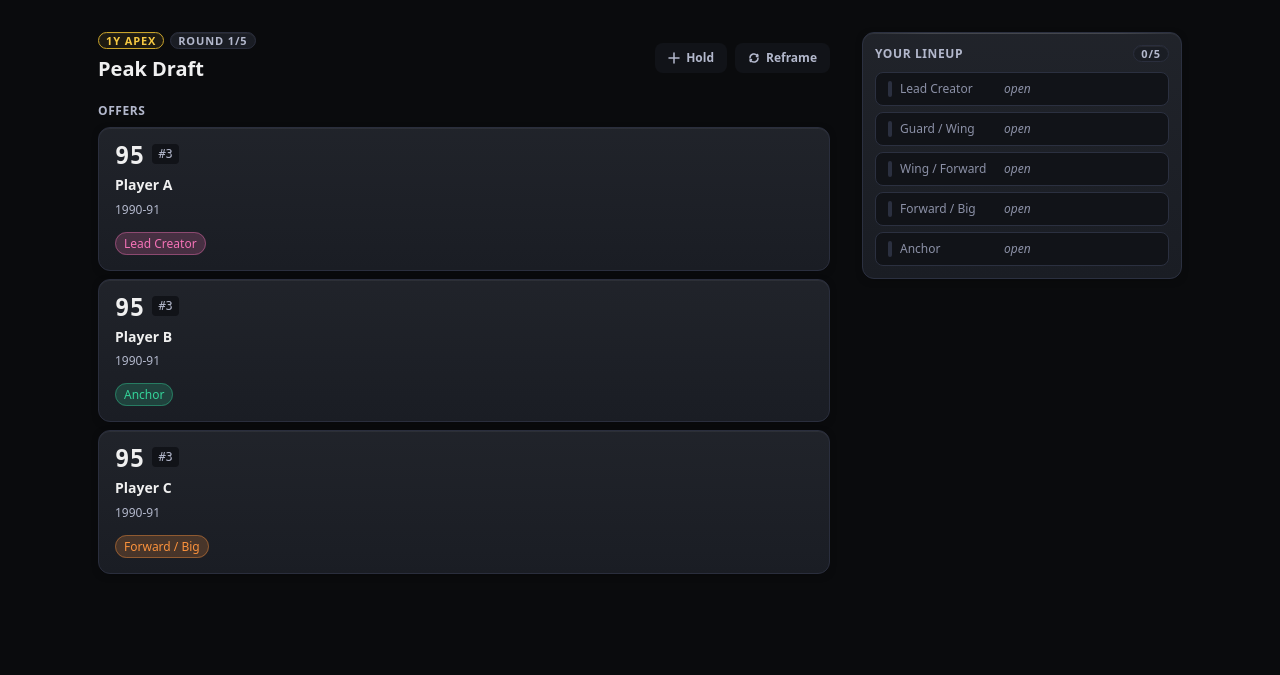
Test case: DraftScreen › a failed submission surfaces the server's message as an alert, not a crash
Click the button with test id "offer-card" at (144, 184), box [98, 127, 830, 270]
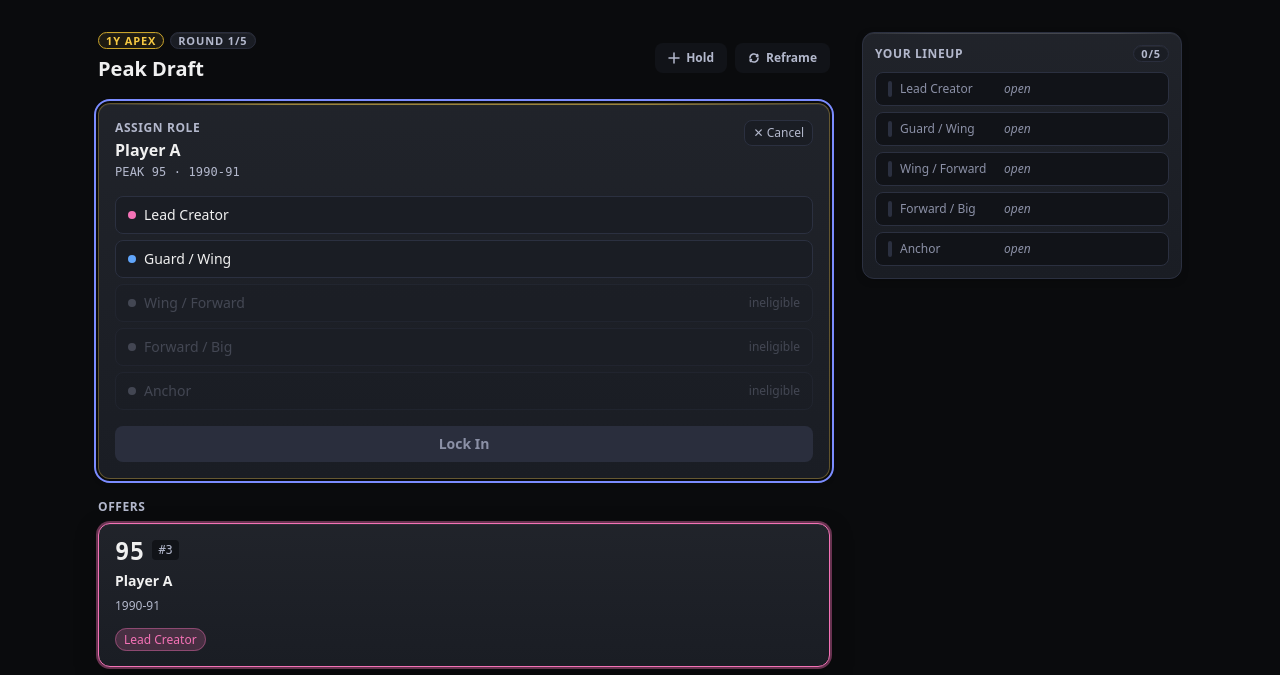
Click the button with test id "role-btn" at (186, 214), box [115, 196, 813, 234]
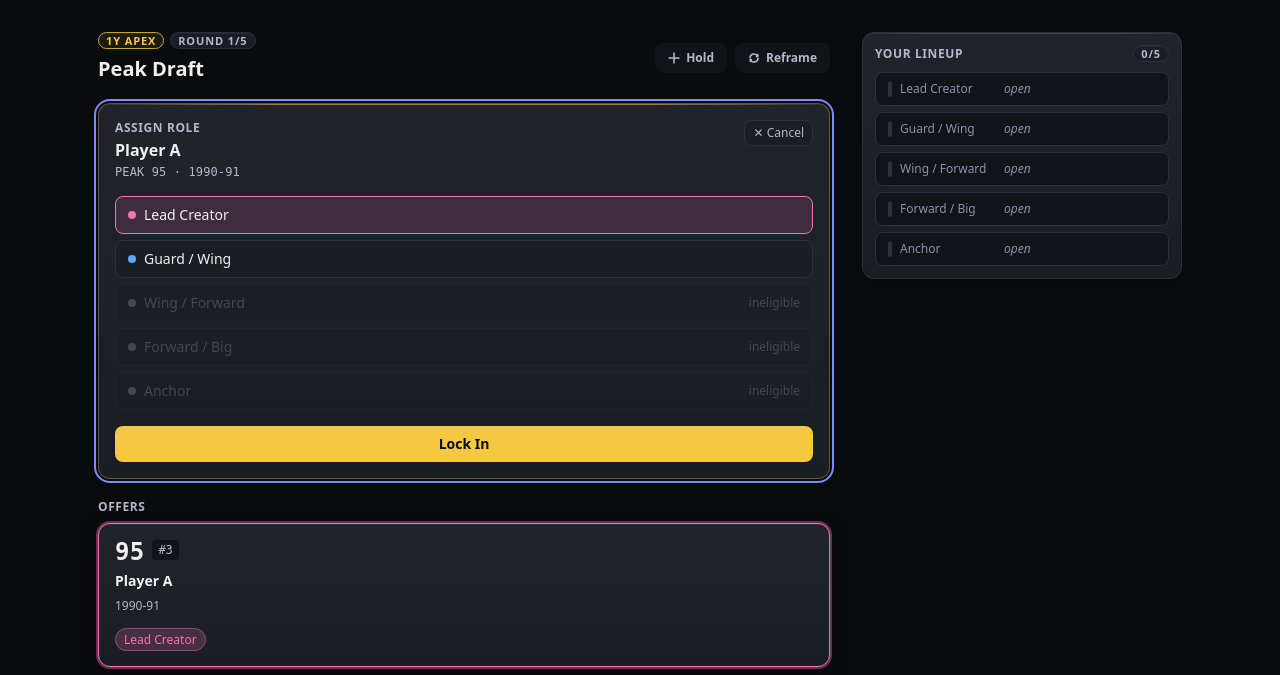
Click the button with test id "lock-in" at (464, 444), box [115, 426, 813, 462]
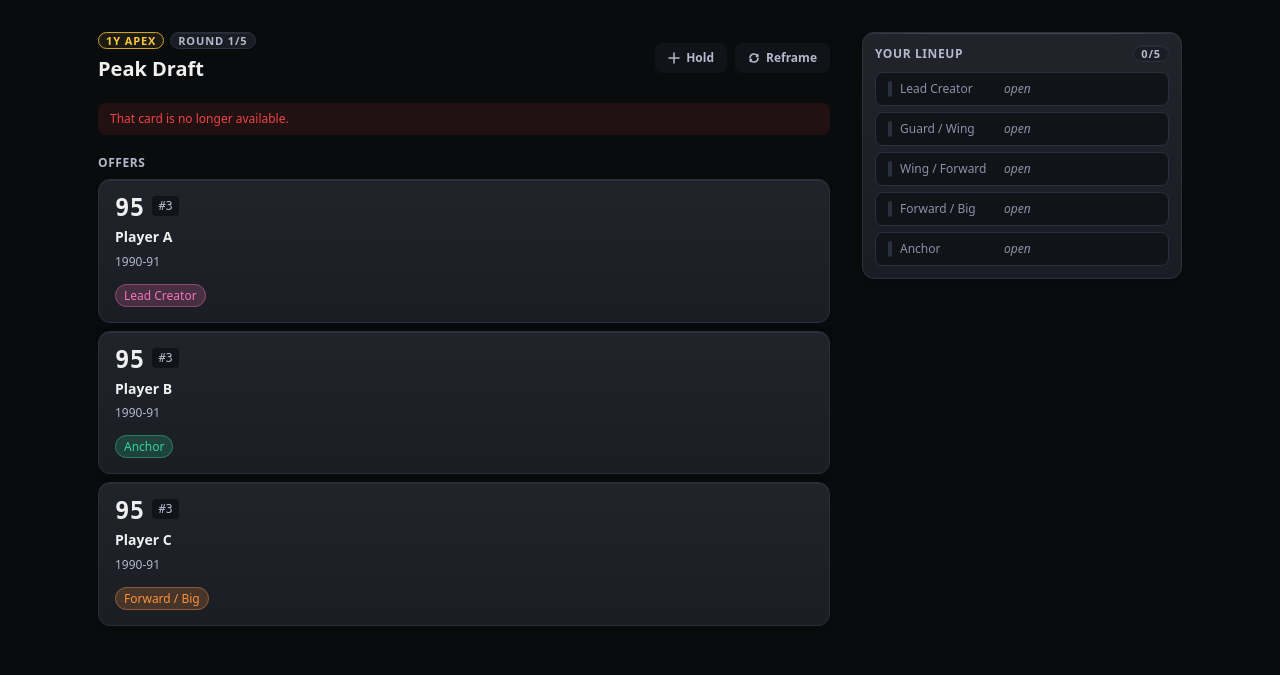
Expected: the number of buttons with test id "offer-card" is 3, [98, 179, 830, 322]; [98, 330, 830, 474]; [98, 482, 830, 626]
Now the message reads "That card is no longer available.", box [110, 110, 289, 127]
